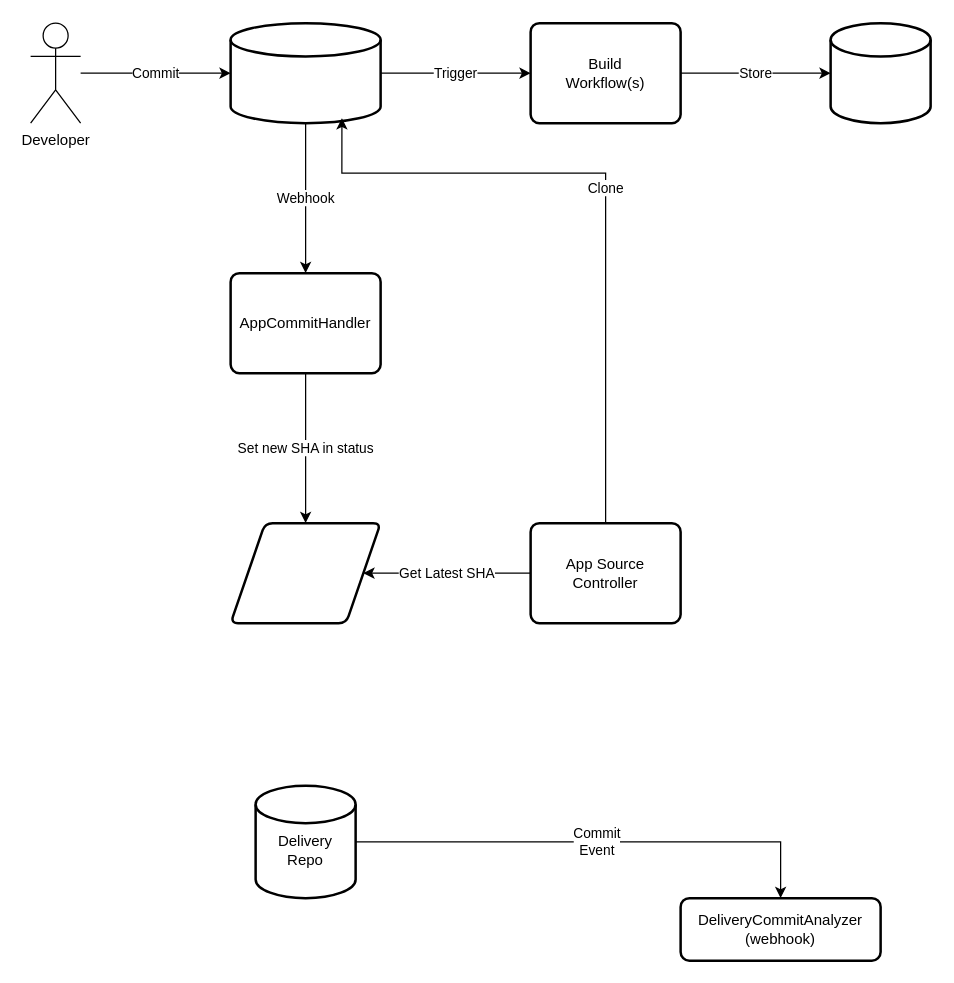
Some shapes in this 954 by 983 pixel diagram are drawn without their labels. The box of each missing label's shape, as (x1, y1, x2, y2) in pixels:
App Source CRD: (229, 521, 381, 624)
Application Repository: (229, 21, 381, 124)
GHCR: (829, 21, 931, 124)
